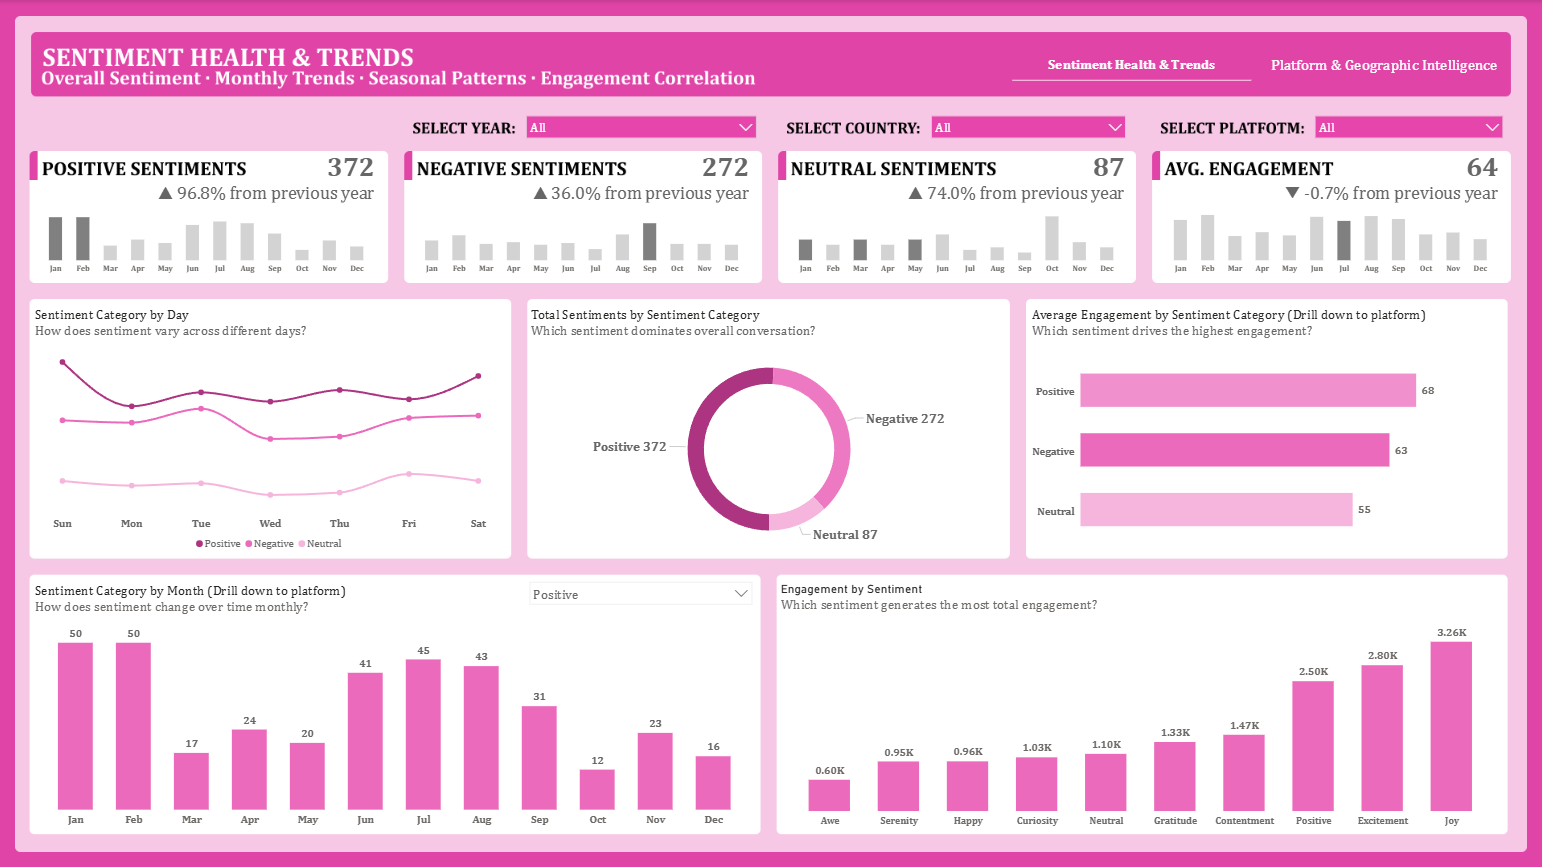

The page's visual inventory and layout, read from the dashboard file:
{"tool":"powerbi","page":{"name":"Sentiment Health & Trends","canvas":[2304,1296],"ordinal":0},"visuals":[{"type":"lineChart","title":"Sentiment Category by Day","fields":{"Y":["Dax_Measures.Positive Posts","Dax_Measures.Negative Posts","Dax_Measures.Neutral Posts"],"Category":["DateTable.Day"]},"box":[43.4,446,723.3,390.6],"z":0},{"type":"donutChart","title":"Total Sentiments by Sentiment Category","fields":{"Y":["Dax_Measures.Positive Posts","Dax_Measures.Negative Posts","Dax_Measures.Neutral Posts"]},"box":[783.6,446,730.6,390.6],"z":1000},{"type":"clusteredBarChart","title":"Average Engagement by Sentiment Category (Drill down to platform)","fields":{"Category":["Dim_Sentiment_Type.SentimentCategory","Dim_Platform.Platform"],"Y":["Dax_Measures.Average Engagement"]},"box":[1531,446,720.9,390.6],"z":2000},{"type":"clusteredColumnChart","title":"Sentiment Category by Month (Drill down to platform)","fields":{"Y":["Dax_Measures.Positive Posts"],"Category":["DateTable.Month","Dim_Platform.Platform"]},"box":[43.4,858.3,1094.6,388.2],"z":3000},{"type":"clusteredColumnChart","fields":{"Category":["Dim_Sentiment_Type.Sentiment"],"Y":["Dax_Measures.Engagement"]},"box":[1157.3,858.3,1094.6,388.2],"z":4000},{"type":"clusteredColumnChart","fields":{"Y":["Dax_Measures.Positive Posts"],"Category":["DateTable.Month"]},"box":[43.4,224.2,537.7,202.5],"z":5000},{"type":"clusteredColumnChart","fields":{"Y":["Dax_Measures.Neutral Posts"],"Category":["DateTable.Month"]},"box":[1162.1,224.2,537.7,202.5],"z":6000},{"type":"clusteredColumnChart","fields":{"Category":["DateTable.Month"],"Y":["Dax_Measures.Engagement"]},"box":[1721.5,224.2,535.3,202.5],"z":7000},{"type":"slicer","fields":{"Values":["Positive, Negative, Neutral.Positive, Negative, Neutral"]},"box":[781.2,858.3,352,57.9],"z":8000},{"type":"clusteredColumnChart","fields":{"Category":["DateTable.Month"],"Y":["Dax_Measures.Negative Posts"]},"box":[605.2,224.2,535.3,202.5],"z":9000},{"type":"slicer","fields":{"Values":["Dim_Platform.Platform"]},"box":[1943.3,161.5,311,62.7],"z":10000},{"type":"slicer","fields":{"Values":["Dim_Location.Country"]},"box":[1371.9,161.5,320.7,62.7],"z":11000},{"type":"slicer","fields":{"Values":["DateTable.Year","DateTable.Month"]},"box":[766.7,161.5,373.7,62.7],"z":12000},{"type":"pageNavigator","box":[1501.6,70.9,755.4,50.4],"z":13000}]}

Visuals, with their boxes in screenshot pixels (x1, y1, x2, y2), scaled from the page's 2304x1296 canvas onto the 1542x867 screenshot:
"Sentiment Category by Day" lineChart: detection(29, 298, 513, 560)
"Total Sentiments by Sentiment Category" donutChart: detection(524, 298, 1013, 560)
"Average Engagement by Sentiment Category (Drill down to platform)" clusteredBarChart: detection(1025, 298, 1507, 560)
"Sentiment Category by Month (Drill down to platform)" clusteredColumnChart: detection(29, 574, 762, 834)
clusteredColumnChart - Dim_Sentiment_Type.Sentiment x Dax_Measures.Engagement: detection(775, 574, 1507, 834)
clusteredColumnChart - Dax_Measures.Positive Posts x DateTable.Month: detection(29, 150, 389, 285)
clusteredColumnChart - Dax_Measures.Neutral Posts x DateTable.Month: detection(778, 150, 1138, 285)
clusteredColumnChart - DateTable.Month x Dax_Measures.Engagement: detection(1152, 150, 1510, 285)
slicer - Positive, Negative, Neutral.Positive, Negative, Neutral: detection(523, 574, 758, 613)
clusteredColumnChart - DateTable.Month x Dax_Measures.Negative Posts: detection(405, 150, 763, 285)
slicer - Dim_Platform.Platform: detection(1301, 108, 1509, 150)
slicer - Dim_Location.Country: detection(918, 108, 1133, 150)
slicer - DateTable.Year x DateTable.Month: detection(513, 108, 763, 150)
pageNavigator: detection(1005, 47, 1511, 81)
